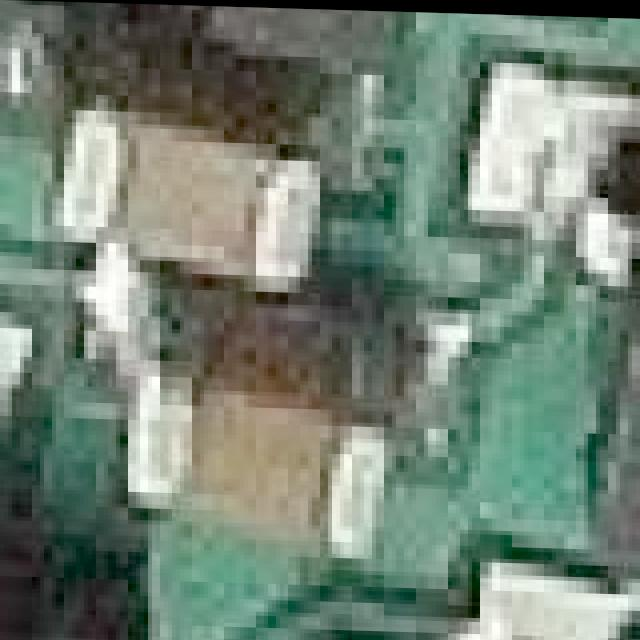capacitor: (102, 286, 400, 581), (56, 69, 336, 312)
transistor: (536, 12, 640, 599), (92, 2, 536, 88), (244, 606, 640, 640)
